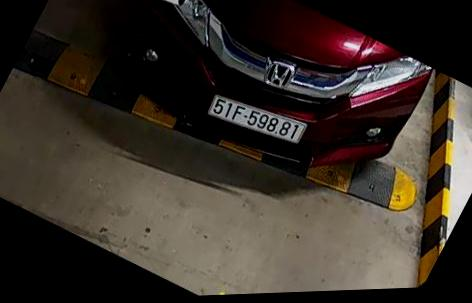License_Plate: (204, 90, 307, 156)
